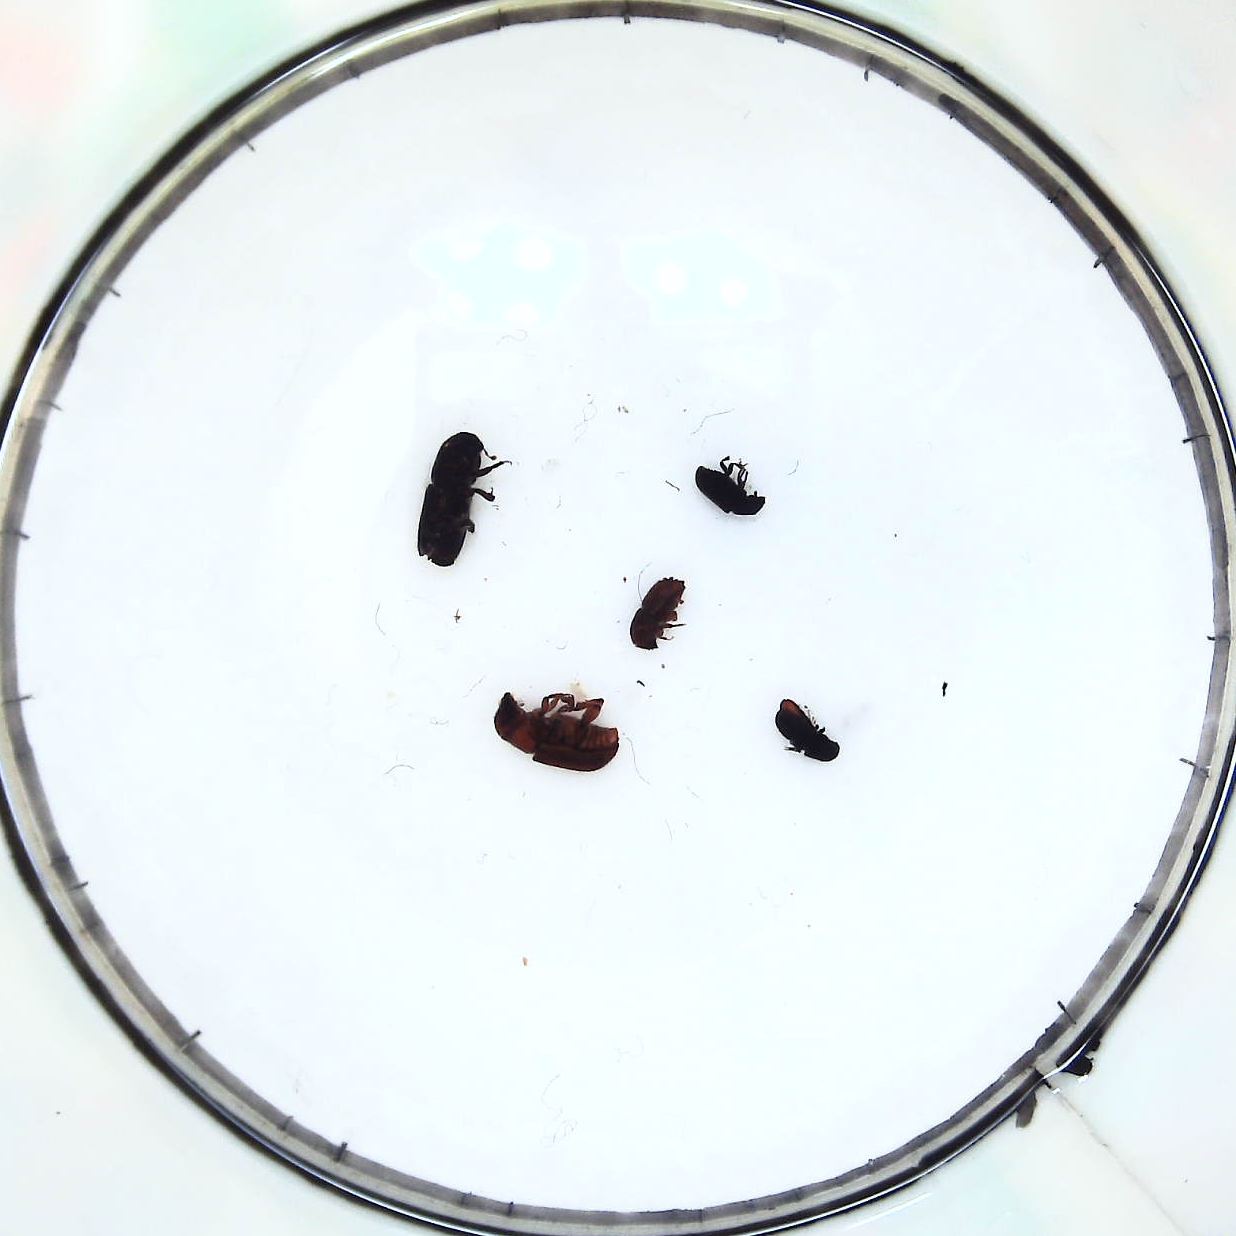Boerner: (417, 432, 488, 569)
Leconte: (491, 690, 621, 773)
Linnaeus: (627, 573, 688, 653)
armandi: (770, 693, 846, 764)
coleoptera: (697, 464, 763, 517)
